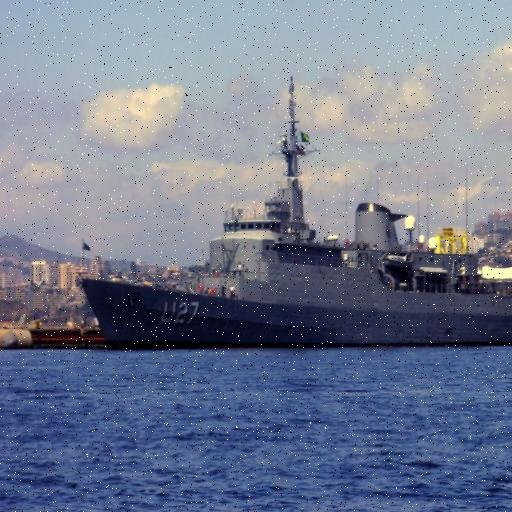Fragata: (76, 80, 512, 357)
